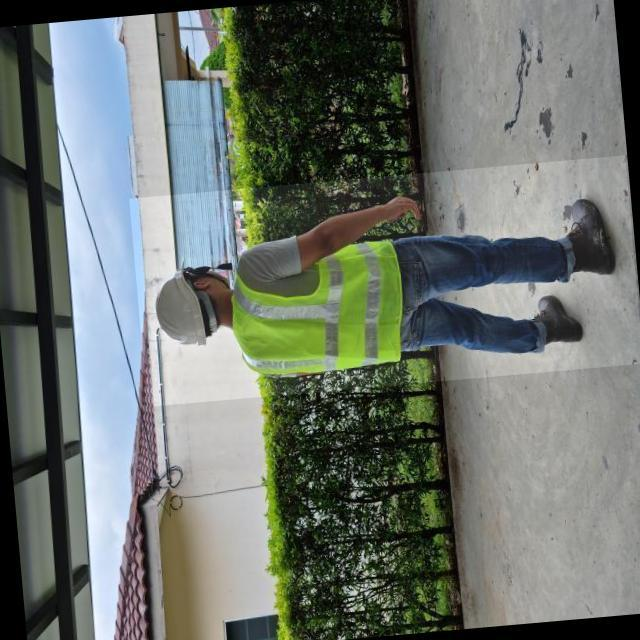Helmet: (148, 263, 208, 354)
Person: (114, 180, 640, 393)
Safety Boot: (556, 190, 619, 285), (531, 289, 587, 355)
Safety Vest: (228, 238, 413, 385)
bare-arms: (378, 187, 444, 231)
